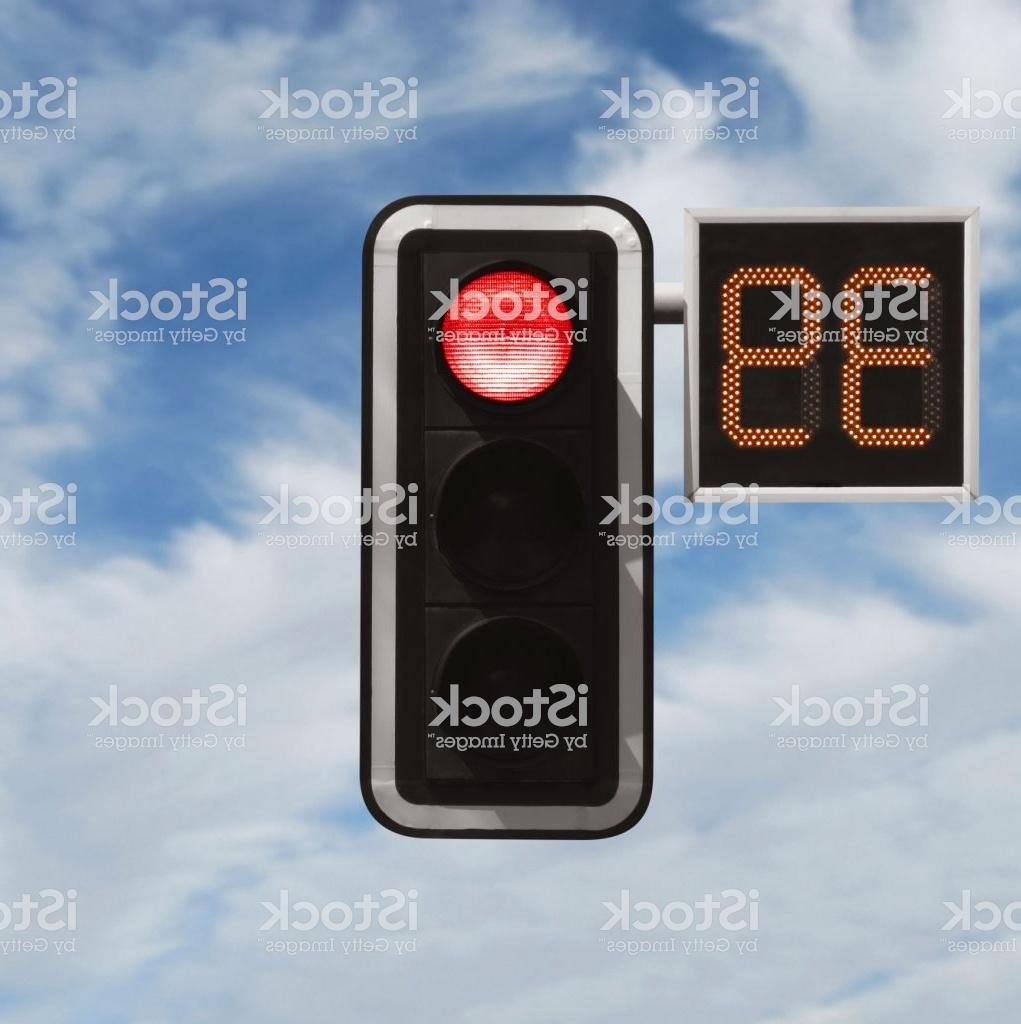red: (362, 160, 672, 855)
